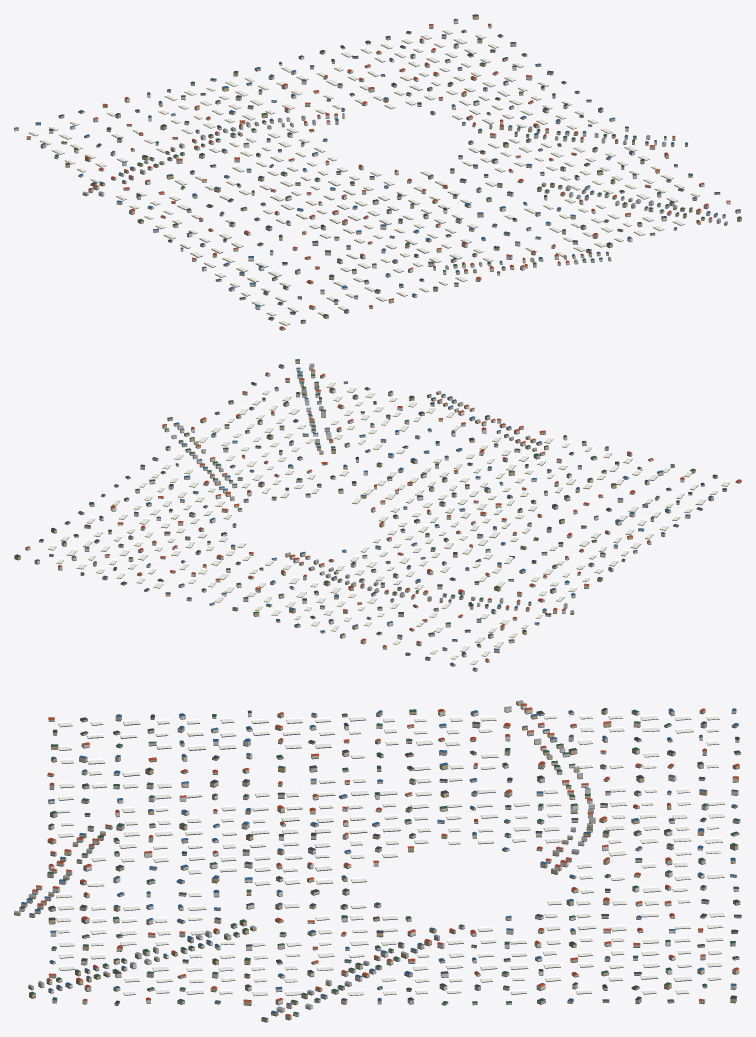
File: buildings_T_W07_N01.glb
3 renders of one model, top to bottom at view 1: azimuth 30°, elevation 25°; view 2: azimuth 150°, elevation 25°; view 3: azimuth 270°, elevation 25°, orthographic. The views are drawn at different scales.
Parts seen in each view (by area): view 1: T_W07_N01_roofs_agri_greenhouse_arch, T_W07_N01_slope_seating_foundations, T_W07_N01_walls_wall_modern_warm_white, T_W07_N01_walls_wall_dalat_cream_stucco, T_W07_N01_walls_wall_pastel_sand_gray, T_W07_N01_walls_wall_french_ochre_villa, T_W07_N01_roofs_roof_terracotta_gable, T_W07_N01_roofs_roof_pine_green_hip, T_W07_N01_roofs_roof_highland_blue_gable, T_W07_N01_roofs_roof_slate_French_villa_hip; view 2: T_W07_N01_roofs_agri_greenhouse_arch, T_W07_N01_slope_seating_foundations, T_W07_N01_walls_wall_modern_warm_white, T_W07_N01_walls_wall_dalat_cream_stucco, T_W07_N01_walls_wall_pastel_sand_gray, T_W07_N01_walls_wall_french_ochre_villa, T_W07_N01_roofs_roof_terracotta_gable, T_W07_N01_roofs_roof_highland_blue_gable, T_W07_N01_roofs_roof_pine_green_hip, T_W07_N01_roofs_roof_slate_French_villa_hip; view 3: T_W07_N01_roofs_agri_greenhouse_arch, T_W07_N01_slope_seating_foundations, T_W07_N01_walls_wall_modern_warm_white, T_W07_N01_walls_wall_dalat_cream_stucco, T_W07_N01_walls_wall_pastel_sand_gray, T_W07_N01_walls_wall_french_ochre_villa, T_W07_N01_roofs_roof_terracotta_gable, T_W07_N01_roofs_roof_highland_blue_gable, T_W07_N01_roofs_roof_pine_green_hip, T_W07_N01_roofs_roof_slate_French_villa_hip, T_W07_N01_roofs_roof_zinc_silver_gable.
Boxes of the visible parts, box(x1,y1,x2,y2) form: T_W07_N01_roofs_agri_greenhouse_arch: box(28, 28, 700, 325); T_W07_N01_slope_seating_foundations: box(14, 19, 741, 330); T_W07_N01_walls_wall_modern_warm_white: box(14, 20, 730, 314); T_W07_N01_walls_wall_dalat_cream_stucco: box(54, 24, 712, 304); T_W07_N01_walls_wall_pastel_sand_gray: box(35, 31, 740, 319); T_W07_N01_walls_wall_french_ochre_villa: box(26, 16, 741, 330); T_W07_N01_roofs_roof_terracotta_gable: box(26, 23, 730, 329); T_W07_N01_roofs_roof_pine_green_hip: box(54, 29, 741, 316); T_W07_N01_roofs_roof_highland_blue_gable: box(14, 18, 725, 311); T_W07_N01_roofs_roof_slate_French_villa_hip: box(49, 14, 720, 321); T_W07_N01_roofs_agri_greenhouse_arch: box(47, 381, 729, 664); T_W07_N01_slope_seating_foundations: box(14, 363, 741, 671); T_W07_N01_walls_wall_modern_warm_white: box(34, 368, 704, 671); T_W07_N01_walls_wall_dalat_cream_stucco: box(25, 370, 702, 655); T_W07_N01_walls_wall_pastel_sand_gray: box(39, 365, 726, 666); T_W07_N01_walls_wall_french_ochre_villa: box(14, 360, 741, 662); T_W07_N01_roofs_roof_terracotta_gable: box(26, 369, 741, 660); T_W07_N01_roofs_roof_highland_blue_gable: box(35, 367, 713, 669); T_W07_N01_roofs_roof_pine_green_hip: box(39, 359, 695, 654); T_W07_N01_roofs_roof_slate_French_villa_hip: box(14, 382, 726, 658); T_W07_N01_roofs_agri_greenhouse_arch: box(55, 714, 725, 995); T_W07_N01_slope_seating_foundations: box(14, 704, 740, 1022); T_W07_N01_walls_wall_modern_warm_white: box(19, 704, 739, 1016); T_W07_N01_walls_wall_dalat_cream_stucco: box(21, 708, 741, 1008); T_W07_N01_walls_wall_pastel_sand_gray: box(26, 710, 740, 1005); T_W07_N01_walls_wall_french_ochre_villa: box(14, 701, 740, 1021); T_W07_N01_roofs_roof_terracotta_gable: box(32, 703, 739, 1016); T_W07_N01_roofs_roof_highland_blue_gable: box(21, 708, 738, 1013); T_W07_N01_roofs_roof_pine_green_hip: box(19, 709, 740, 1019); T_W07_N01_roofs_roof_slate_French_villa_hip: box(48, 708, 741, 1004); T_W07_N01_roofs_roof_zinc_silver_gable: box(14, 700, 595, 1009).
Bounding box in the file's own units: 1902 × 39.12 × 1838.
